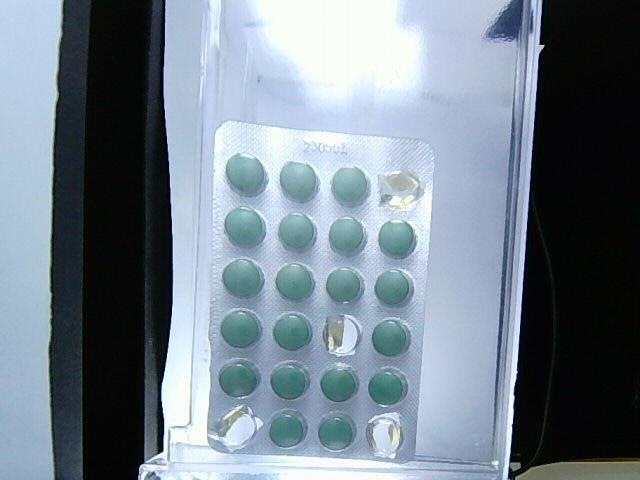Light Front: (206, 122, 437, 465)
No Pill Front: (208, 404, 263, 452), (379, 171, 423, 208), (368, 413, 403, 458), (324, 315, 361, 356)
Pill Front: (226, 155, 267, 195), (225, 208, 265, 247), (280, 161, 318, 201), (220, 310, 260, 347), (223, 260, 264, 296), (278, 213, 316, 251), (320, 364, 358, 402), (269, 410, 307, 448), (329, 216, 366, 255), (275, 264, 315, 300), (270, 363, 310, 399), (331, 168, 368, 206), (368, 369, 408, 404), (219, 361, 259, 396), (379, 220, 415, 257), (373, 319, 410, 355), (318, 414, 355, 450), (325, 268, 363, 303), (274, 315, 311, 349), (375, 270, 410, 304)
